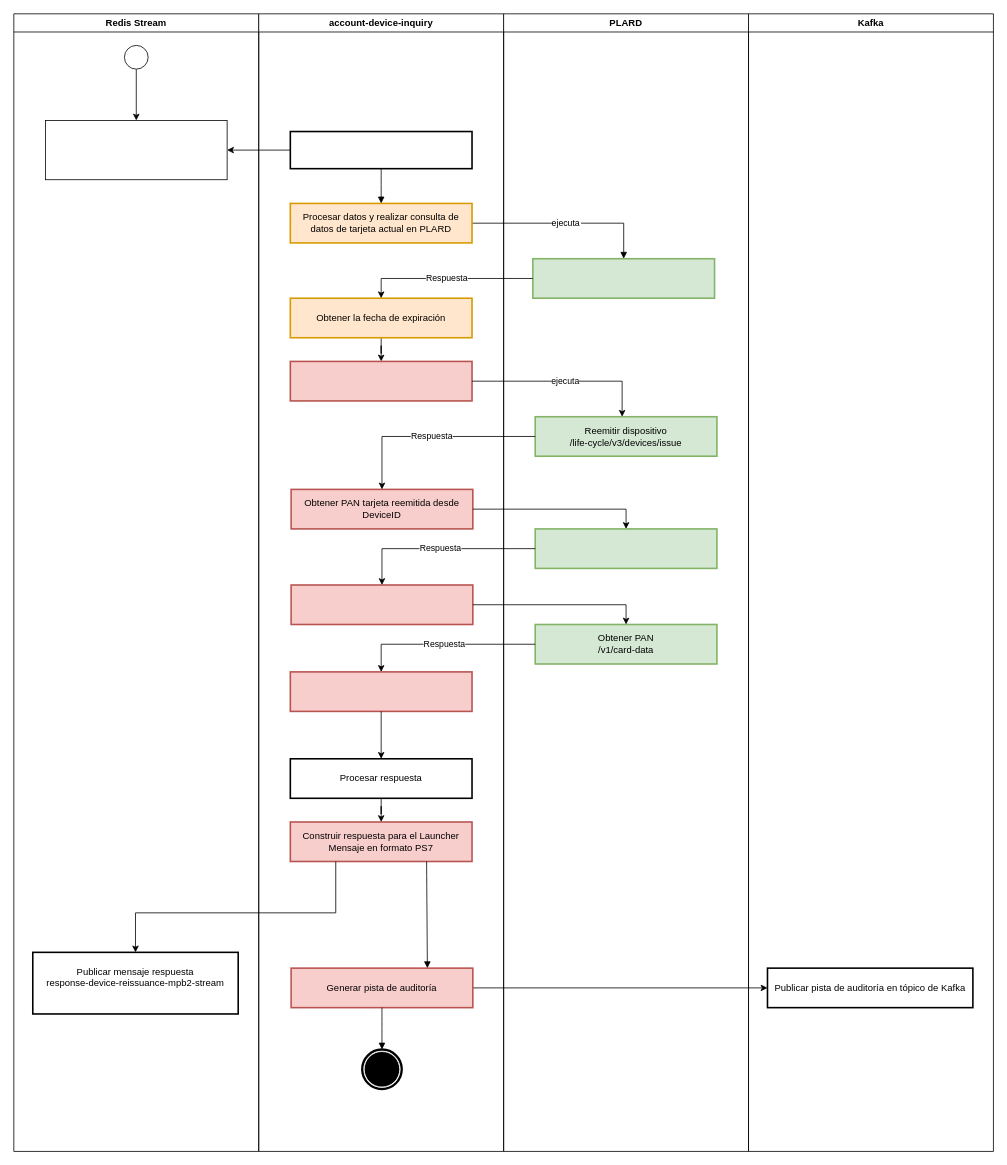
This 1007x1165 diagram has some shape labels left out. The shapes that lost their labels are listed below. From the top down, each one's box as (x1, y1, x2, y2) in pixels, then its label:
(45, 120, 227, 180): Launcher publica mensaje en Stream " request- device-reissuance -mpb2 -stream "
(289, 130, 472, 169): Recibir mensaje de Redis Stream
(532, 258, 715, 299): Consulta dispositivo /life-cycle/v4/devices/details
(289, 360, 472, 401): Ejecutar la reemisión
(534, 528, 717, 569): Obtener JWKS PLARD /v1/jwks
(290, 584, 473, 625): Generar Request (JWT + JWE)
(289, 671, 472, 712): Desencriptar JWE
